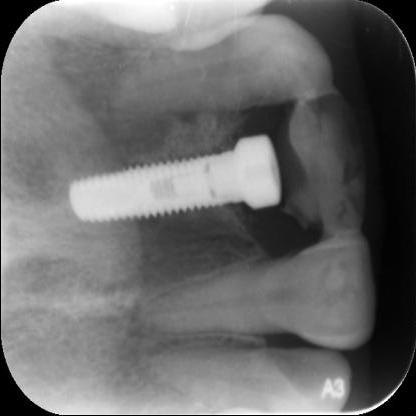Bego: (68, 135, 282, 229)
